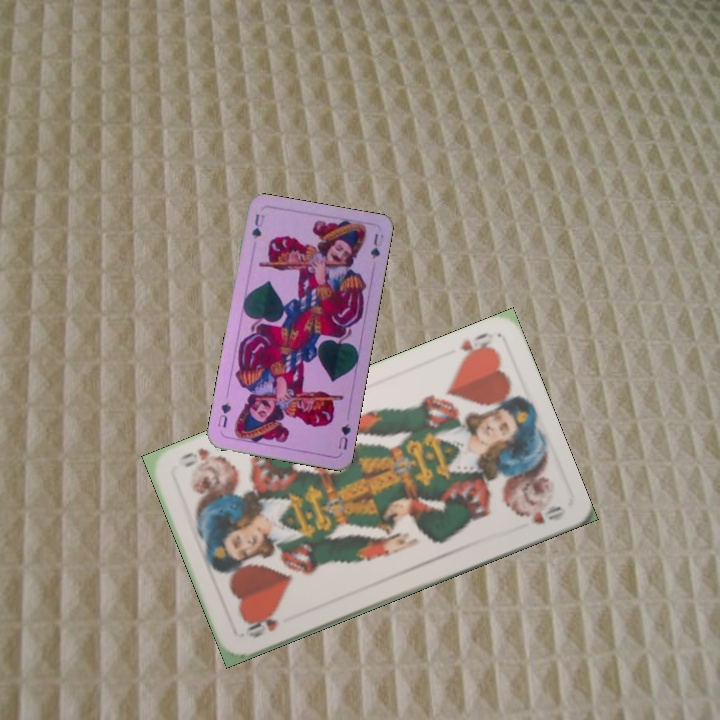GU: (334, 420, 353, 452), (248, 210, 267, 242)
HO: (454, 328, 497, 366), (241, 614, 280, 641)
